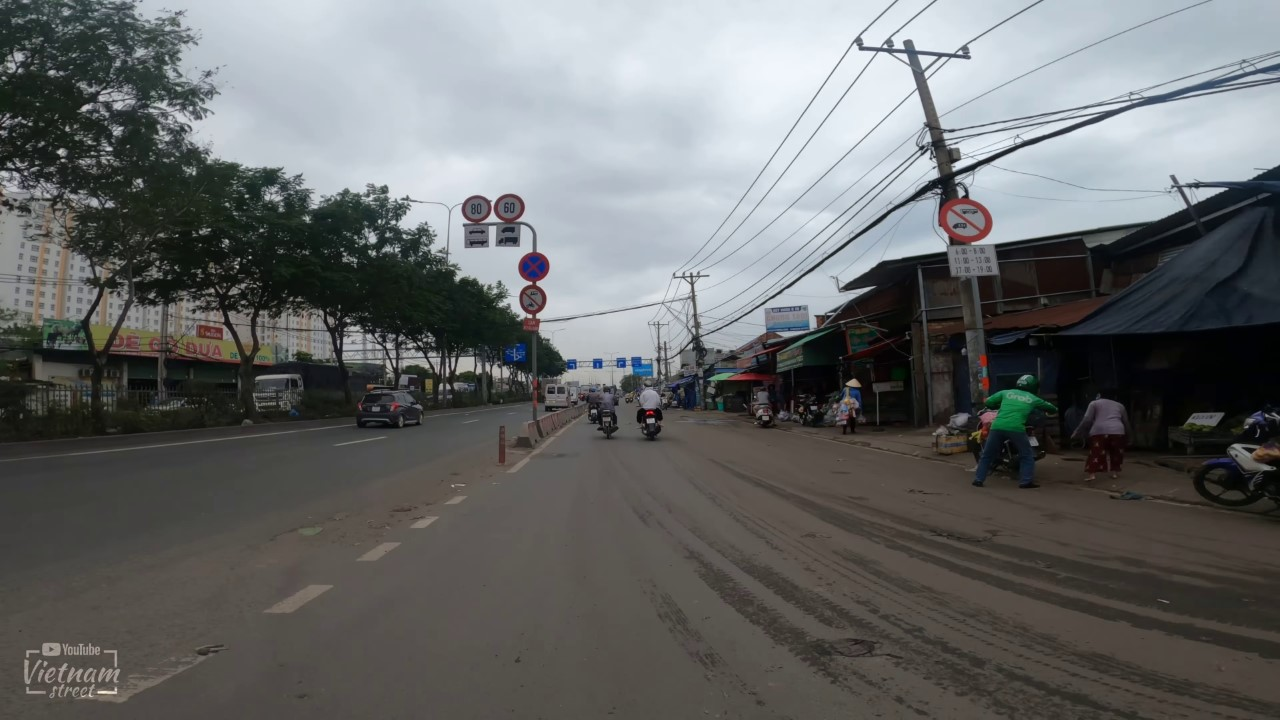gioi_han_60km: (493, 190, 526, 222)
gioi_han_80km: (460, 191, 492, 223)
